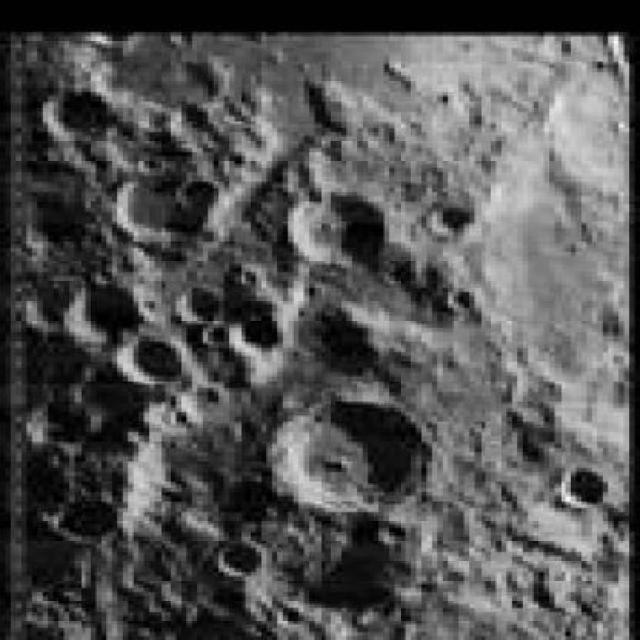crater: (276, 398, 430, 511), (114, 163, 221, 248), (282, 191, 380, 264), (60, 287, 140, 359), (122, 334, 188, 386), (226, 316, 285, 355), (220, 539, 266, 575), (561, 472, 608, 506)
